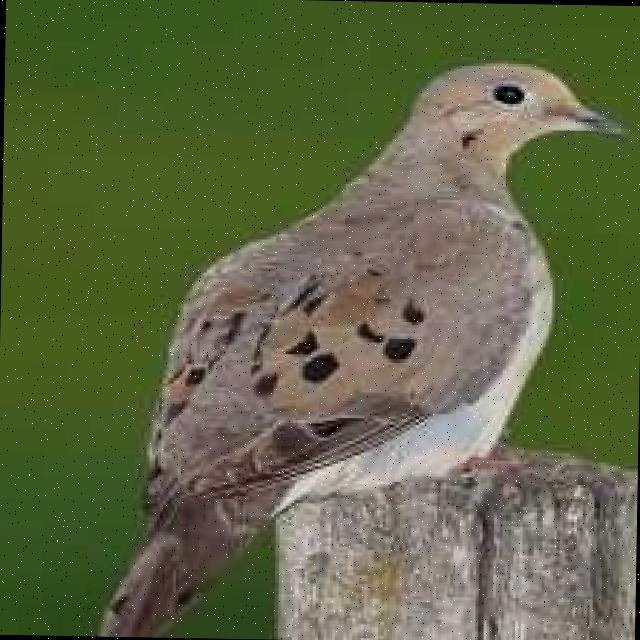dove: (77, 44, 636, 640)
